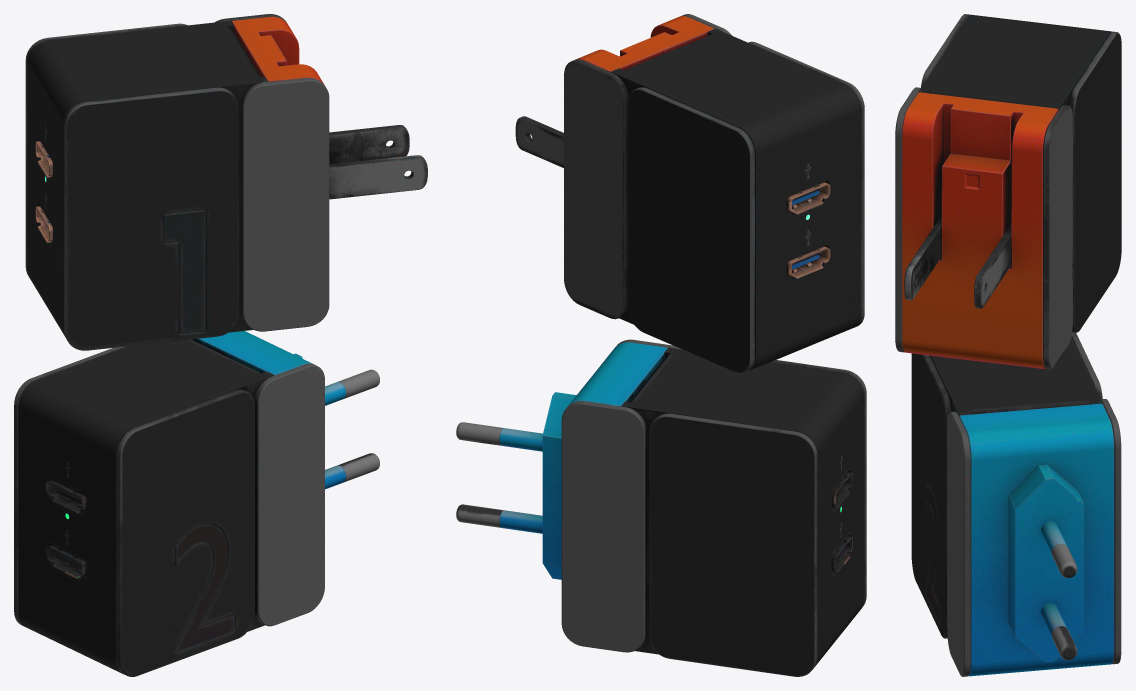
Rendered from usb.glb.
The picture shows the model from 3 angles, left to right: view 1: azimuth 30°, elevation 25°; view 2: azimuth 150°, elevation 25°; view 3: azimuth 270°, elevation 25°; orthographic projection.
Visible parts, largest first — view 1: adapter.009_low.001, adapter.012_low.001, adapter.007_low, adapter.001_low.001, adapter.003_low.001, adapter.014_low, adapter.005_low.001, adapter.006_low.001, adapter.016_low.001, adapter_low, adapter.008_low, adapter.013_low (+4 smaller); view 2: adapter.013_low, adapter.001_low.001, adapter.002_low.001, adapter.012_low.001, adapter.014_low, adapter.003_low.001, adapter_low, adapter.016_low.001, adapter.005_low.001, adapter.009_low.001, adapter.019_low, adapter.010_low.001 (+2 smaller); view 3: adapter_low, adapter.016_low.001, adapter.002_low.001, adapter.001_low.001, adapter.003_low.001, adapter.007_low, adapter.014_low, adapter.012_low.001, adapter.005_low.001, adapter.019_low, adapter.008_low, adapter.009_low.001 (+1 smaller).
Boxes of the visible parts, left/top/right/bottom form: adapter.009_low.001: left=64, top=87, right=239, bottom=350; adapter.012_low.001: left=18, top=339, right=274, bottom=674; adapter.007_low: left=117, top=389, right=254, bottom=676; adapter.001_low.001: left=27, top=20, right=267, bottom=336; adapter.003_low.001: left=214, top=14, right=329, bottom=331; adapter.014_low: left=254, top=363, right=324, bottom=626; adapter.005_low.001: left=329, top=125, right=427, bottom=199; adapter.006_low.001: left=163, top=209, right=205, bottom=333; adapter.016_low.001: left=231, top=16, right=324, bottom=84; adapter_low: left=191, top=331, right=345, bottom=489; adapter.008_low: left=173, top=524, right=234, bottom=652; adapter.013_low: left=14, top=346, right=125, bottom=626; adapter.013_low: left=648, top=413, right=817, bottom=676; adapter.001_low.001: left=611, top=28, right=860, bottom=370; adapter.002_low.001: left=628, top=87, right=754, bottom=373; adapter.012_low.001: left=621, top=347, right=864, bottom=666; adapter.014_low: left=561, top=339, right=681, bottom=652; adapter.003_low.001: left=564, top=14, right=731, bottom=319; adapter_low: left=499, top=342, right=667, bottom=579; adapter.016_low.001: left=576, top=16, right=714, bottom=72; adapter.005_low.001: left=515, top=116, right=563, bottom=167; adapter.009_low.001: left=748, top=41, right=864, bottom=327; adapter.019_low: left=456, top=422, right=503, bottom=527; adapter.010_low.001: left=786, top=182, right=830, bottom=278; adapter_low: left=959, top=403, right=1114, bottom=676; adapter.016_low.001: left=902, top=92, right=1058, bottom=369; adapter.002_low.001: left=1068, top=31, right=1121, bottom=332; adapter.001_low.001: left=918, top=14, right=1111, bottom=109; adapter.003_low.001: left=895, top=87, right=1072, bottom=369; adapter.007_low: left=911, top=353, right=951, bottom=638; adapter.014_low: left=947, top=399, right=1121, bottom=676; adapter.012_low.001: left=930, top=338, right=1102, bottom=415; adapter.005_low.001: left=904, top=215, right=1011, bottom=308; adapter.019_low: left=1051, top=544, right=1077, bottom=660; adapter.008_low: left=925, top=486, right=940, bottom=623; adapter.009_low.001: left=921, top=14, right=969, bottom=87.
Size of the model in its own units: 0.1696 by 0.2507 by 0.093.
Materials: 1 (1 with a texture image).
